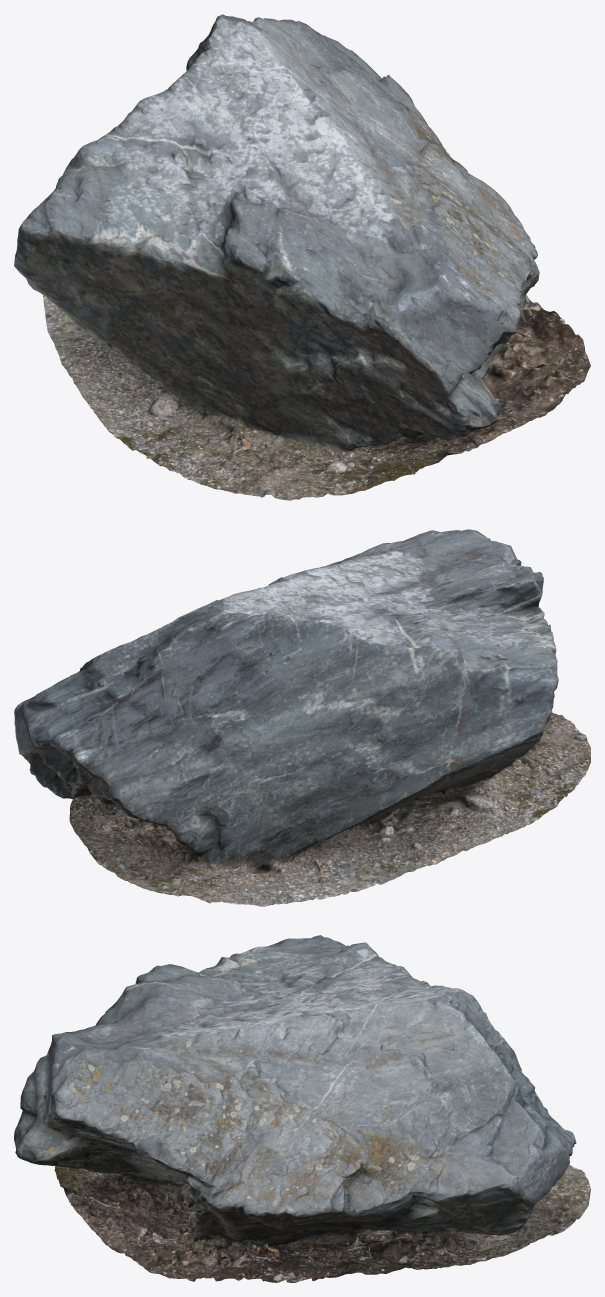
Rendered from Rock5.obj.
3 views of the same model, one above another, from view 1: azimuth 30°, elevation 25°; view 2: azimuth 150°, elevation 25°; view 3: azimuth 270°, elevation 25° (orthographic). The views are drawn at different scales.
Visible parts, largest first — view 1: sutr_tmave_sedy_Mesh; view 2: sutr_tmave_sedy_Mesh; view 3: sutr_tmave_sedy_Mesh.
Boxes of the visible parts, <box> form: sutr_tmave_sedy_Mesh: <box>14,14,590,500</box>; sutr_tmave_sedy_Mesh: <box>14,529,590,906</box>; sutr_tmave_sedy_Mesh: <box>14,935,590,1282</box>.
Bounding box in the file's own units: 0.1773 × 0.0931 × 0.2193.
1 material, 1 textured.
